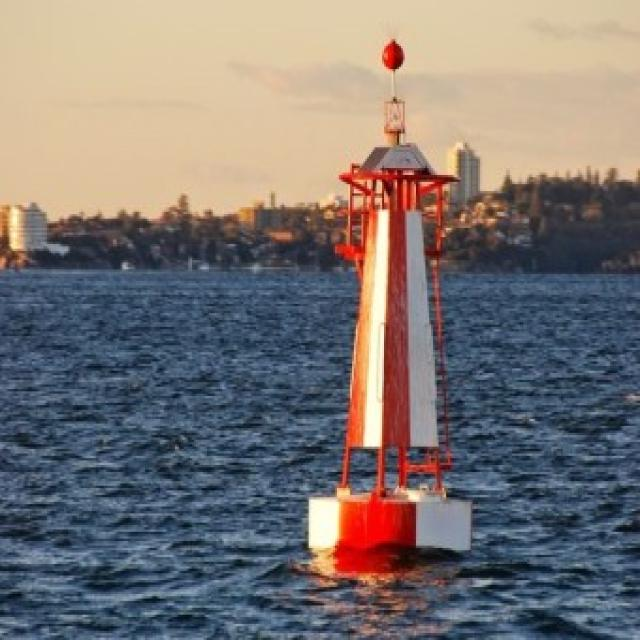buoy: (306, 21, 488, 567)
